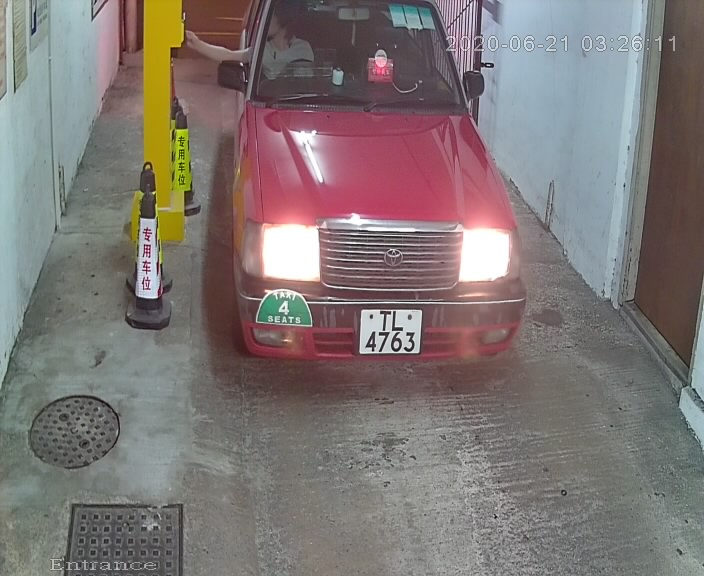taxi: (196, 1, 549, 419)
taxi_mark: (255, 268, 327, 349)
